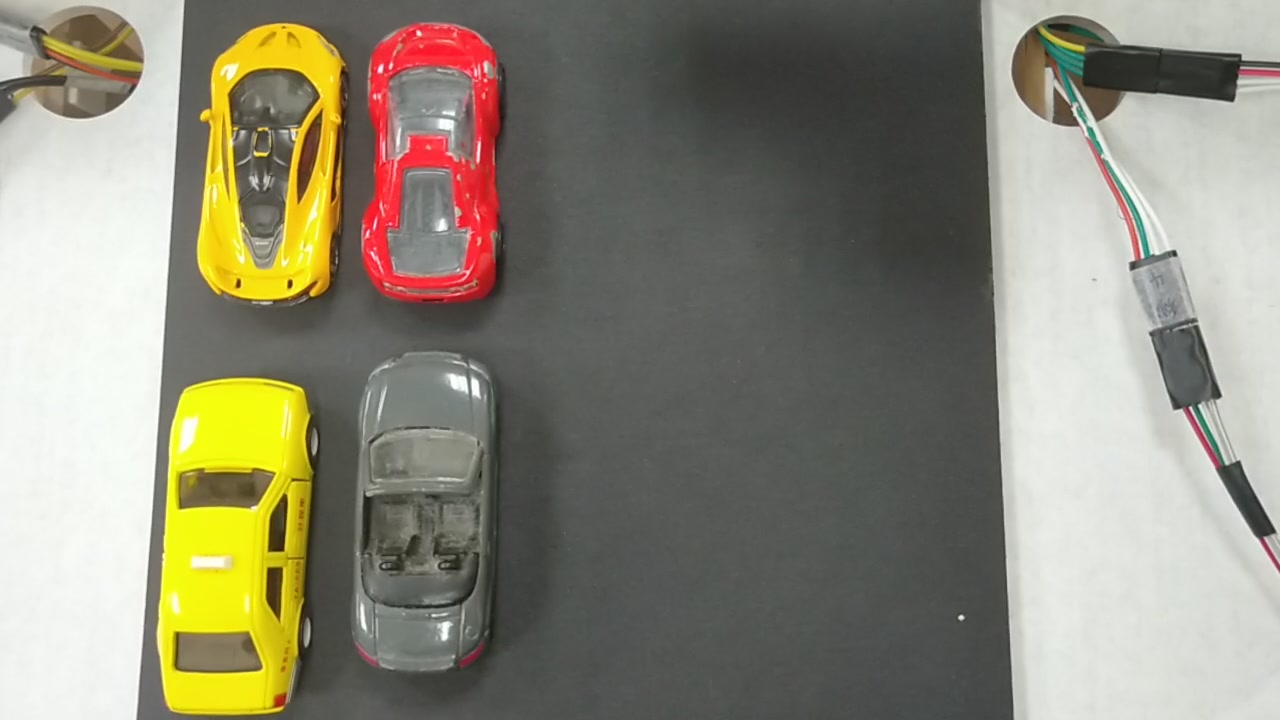car: (157, 379, 331, 711), (359, 355, 502, 668), (194, 19, 343, 301), (360, 24, 499, 290)
